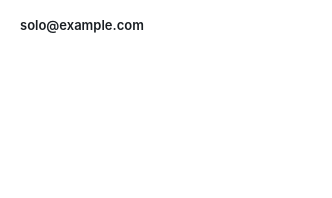
Test: UserInfo › omits the avatar and the email row on request
Step 1. Click the button with class "user-info" → (82, 26), box [12, 12, 152, 40]
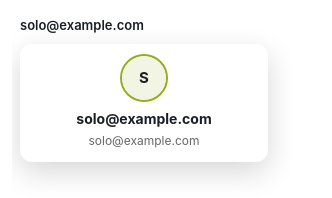
Expected: the text with class "user-info-card-email" reads "solo@example.com", [88, 132, 200, 148]
